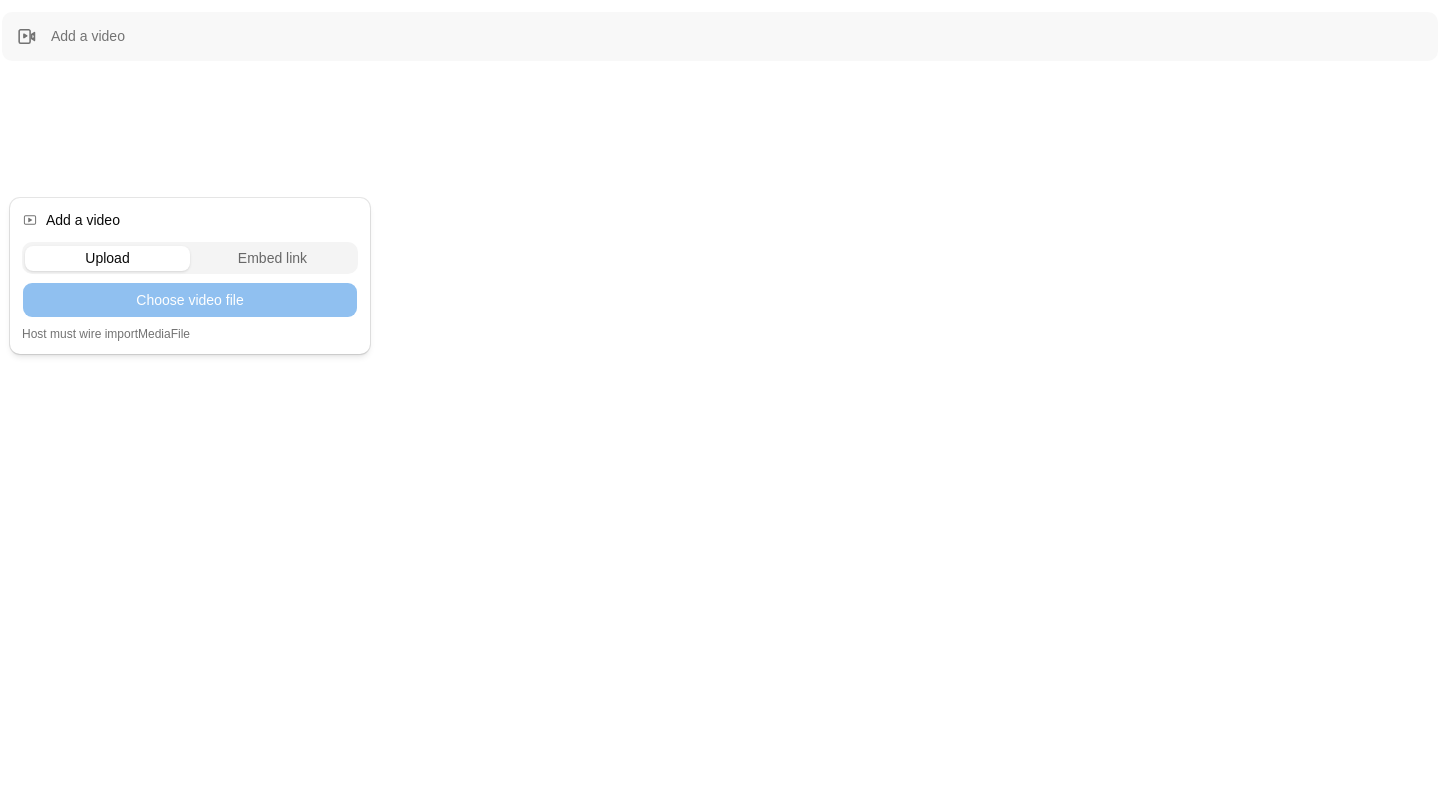
Test: MediaSourcePopover › keeps blocked URLs in the popover and shows the kind-specific error
expect the tab "Upload" is shown: met, box [25,246,190,270]
Press the mouse on the tab "Embed link" at (272, 258), box [190,246,355,270]
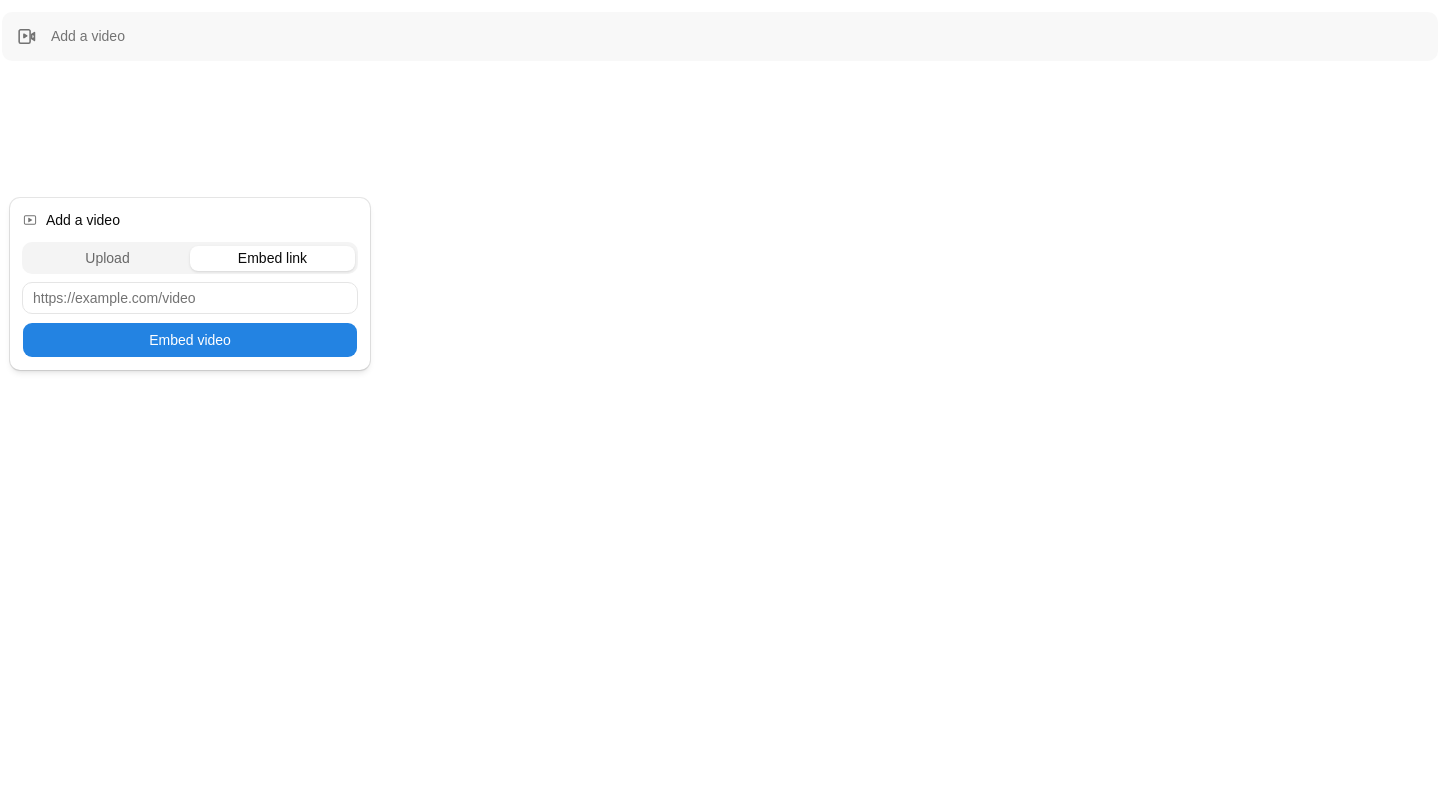
Type "javascript:alert(1)" into the field named "Video URL".
click(190, 298); type("javascript:alert(1)")  # box [22,282,358,314]
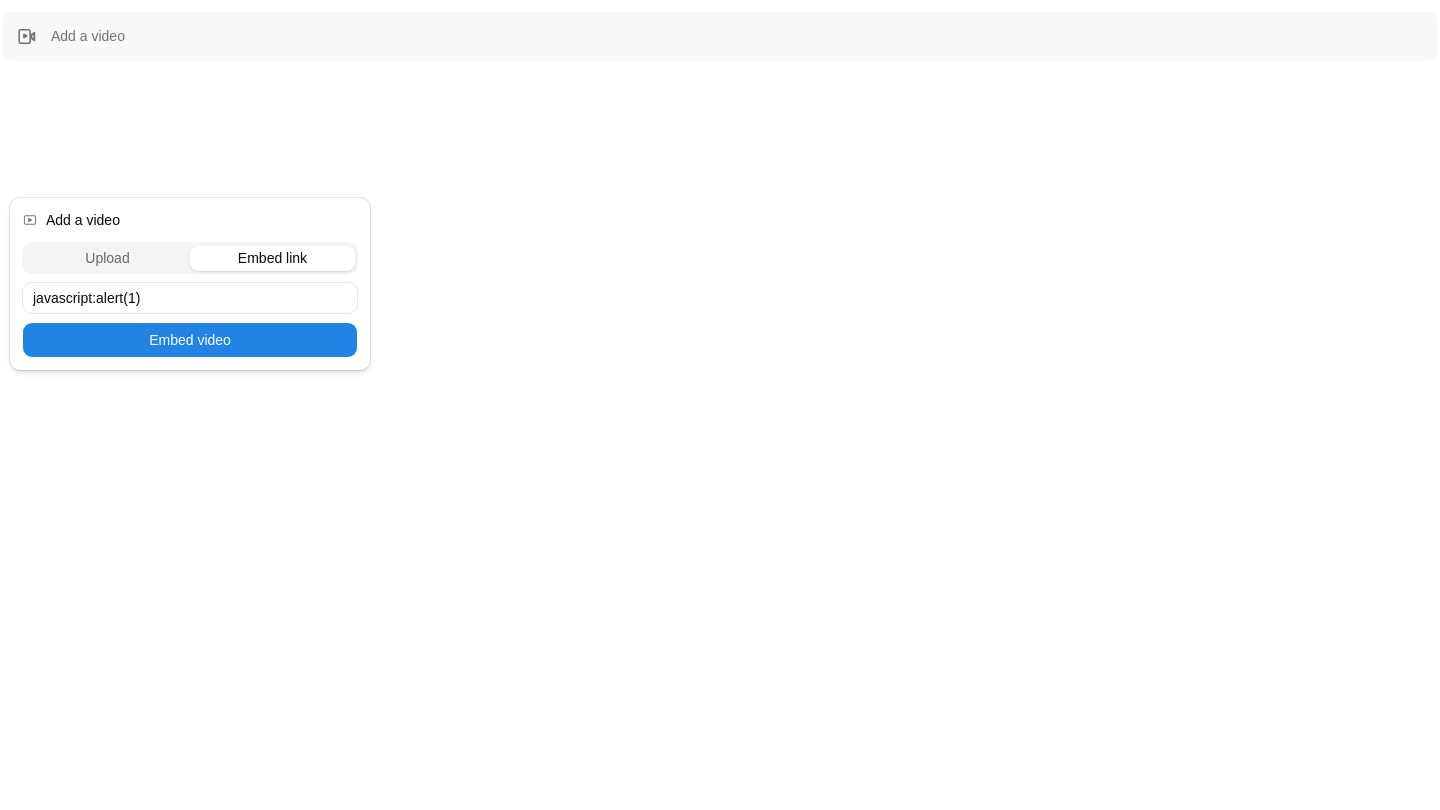
Click the button "Embed video".
click(190, 340)  # box [22,322,358,358]
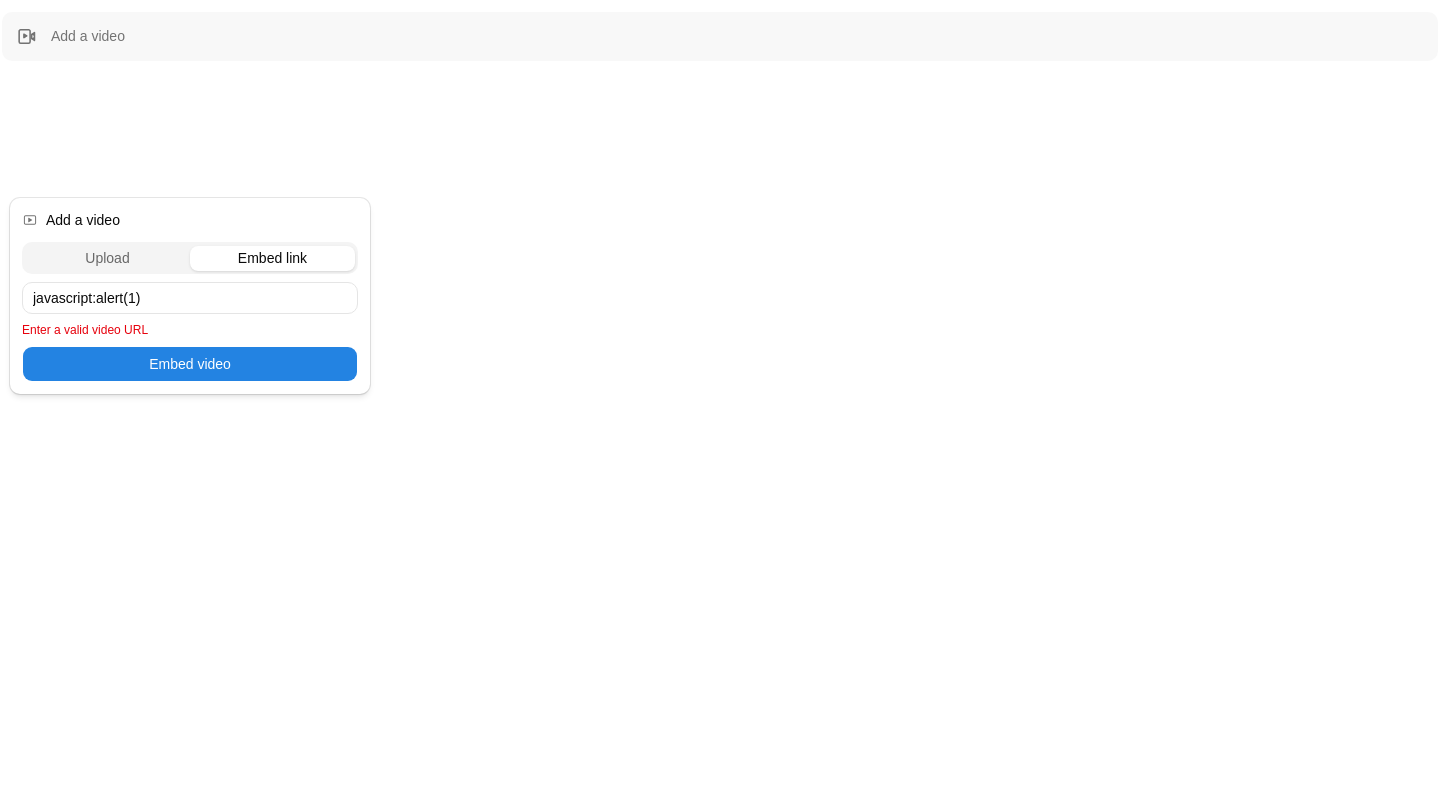
expect the tab "Upload" is shown: met, box [25,246,190,270]
expect the text "Enter a valid video URL" is shown: met, box [22,323,148,337]
